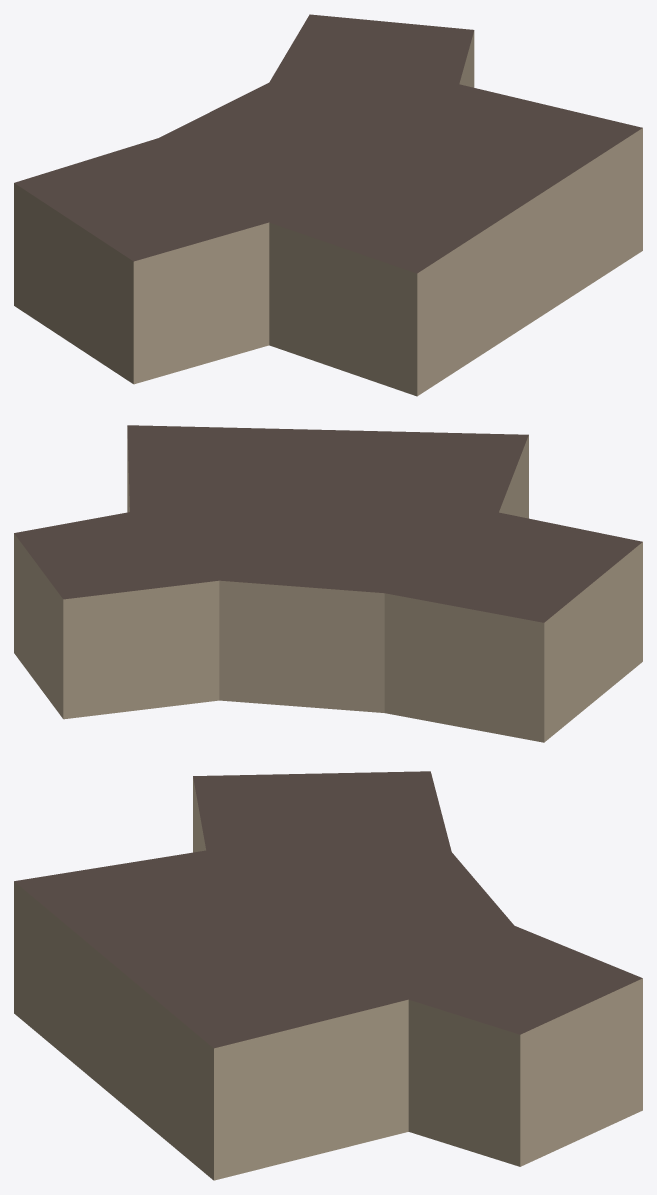
3 views of the same model, one above another, from view 1: azimuth 30°, elevation 25°; view 2: azimuth 150°, elevation 25°; view 3: azimuth 270°, elevation 25° (orthographic). The views are drawn at different scales.
Parts seen in each view (by area): view 1: HP-w369342443; view 2: HP-w369342443; view 3: HP-w369342443.
Boxes of the visible parts, x1,y1,x2,y2 form: HP-w369342443: [14, 14, 642, 396]; HP-w369342443: [14, 425, 642, 742]; HP-w369342443: [14, 771, 642, 1180].
Bounding box in the file's own units: 40.47 × 9 × 38.81.
